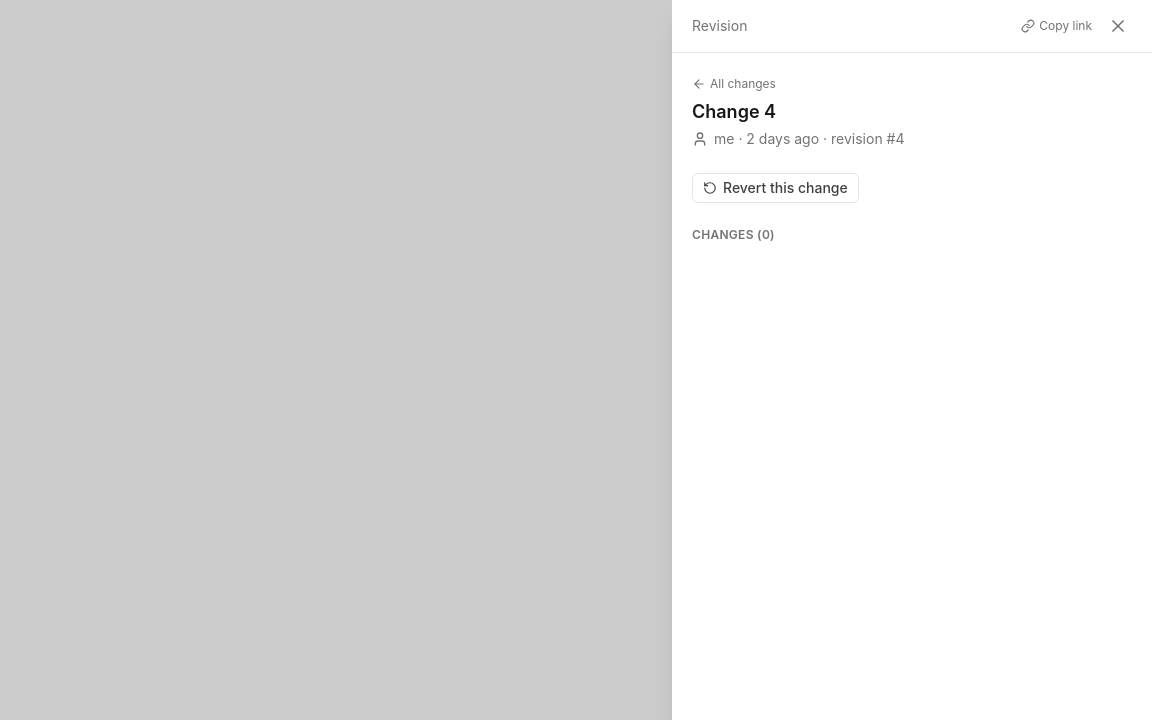
Test: reverting › reverts any revision, and shows why when it cannot
Click the button "Revert this change" at (775,188), box [692, 173, 859, 203]
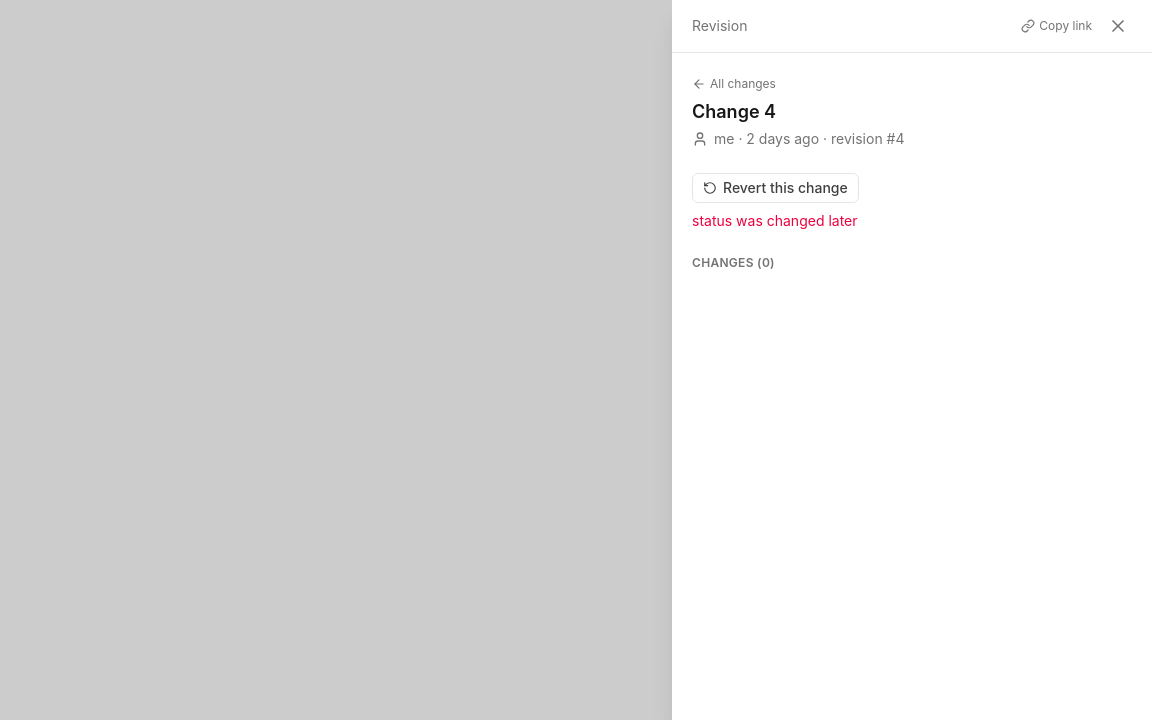
Expected: the message reads "status was changed later", [692, 212, 858, 229]
Click the button "Revert this change" at (775,188), box [692, 173, 859, 203]
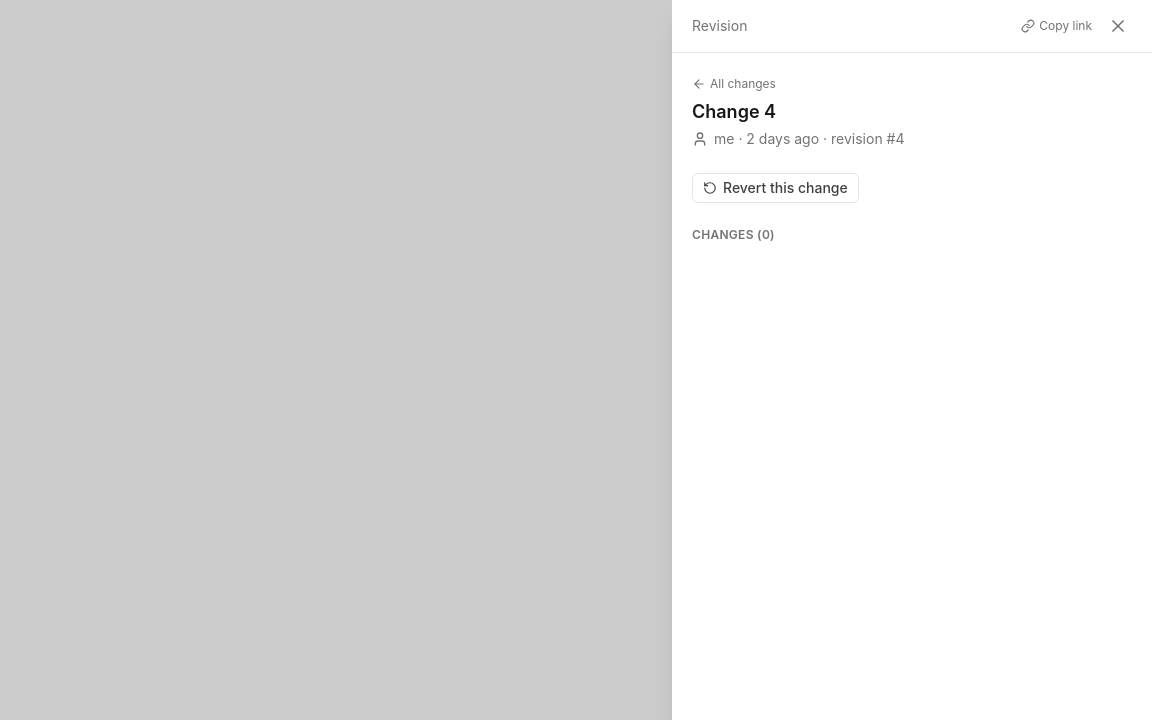
Expected: the message "status was changed later" is gone
